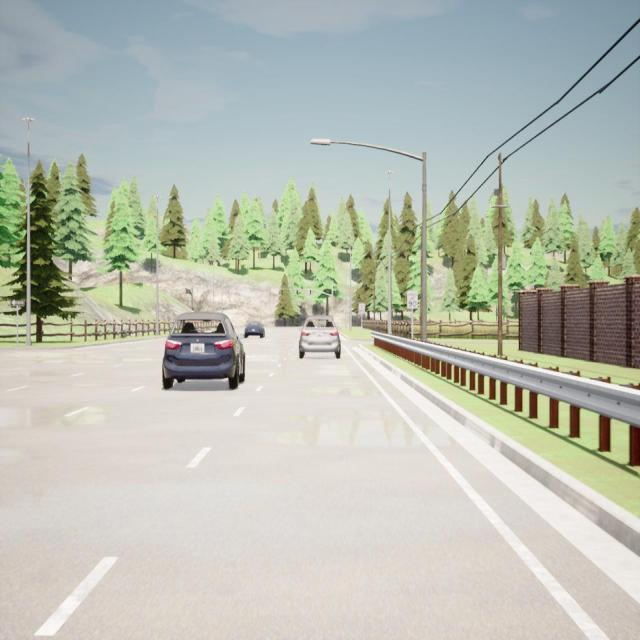Traffic_Signs: (407, 291, 418, 309), (10, 299, 24, 307), (359, 304, 364, 314)
Vehicle: (163, 312, 245, 389), (298, 315, 341, 359), (243, 319, 265, 338)
traffic_light: (281, 290, 283, 296), (297, 290, 298, 295), (310, 290, 311, 295), (186, 289, 187, 293), (188, 290, 188, 294), (190, 290, 190, 294)
